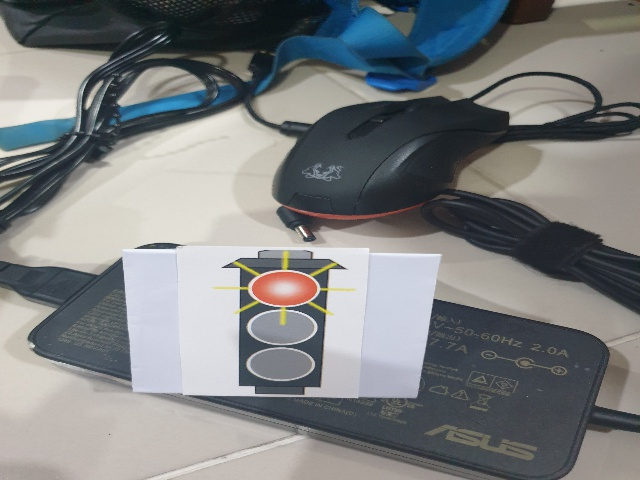Red Light: (214, 249, 355, 398)
